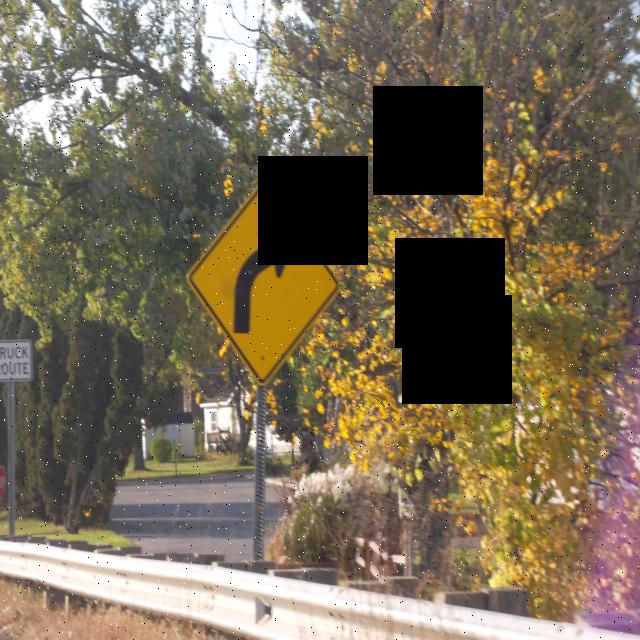warning: (184, 174, 345, 391)
